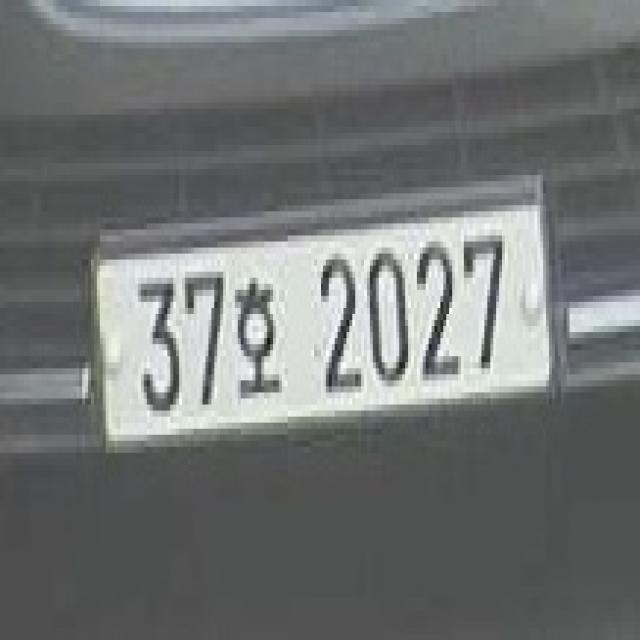0: (364, 248, 411, 386)
2: (317, 254, 361, 398), (417, 236, 458, 386)
3: (132, 272, 182, 416)
7: (461, 230, 505, 368), (185, 272, 226, 411)
ho: (229, 272, 282, 404)
license_plate: (91, 181, 558, 465)
